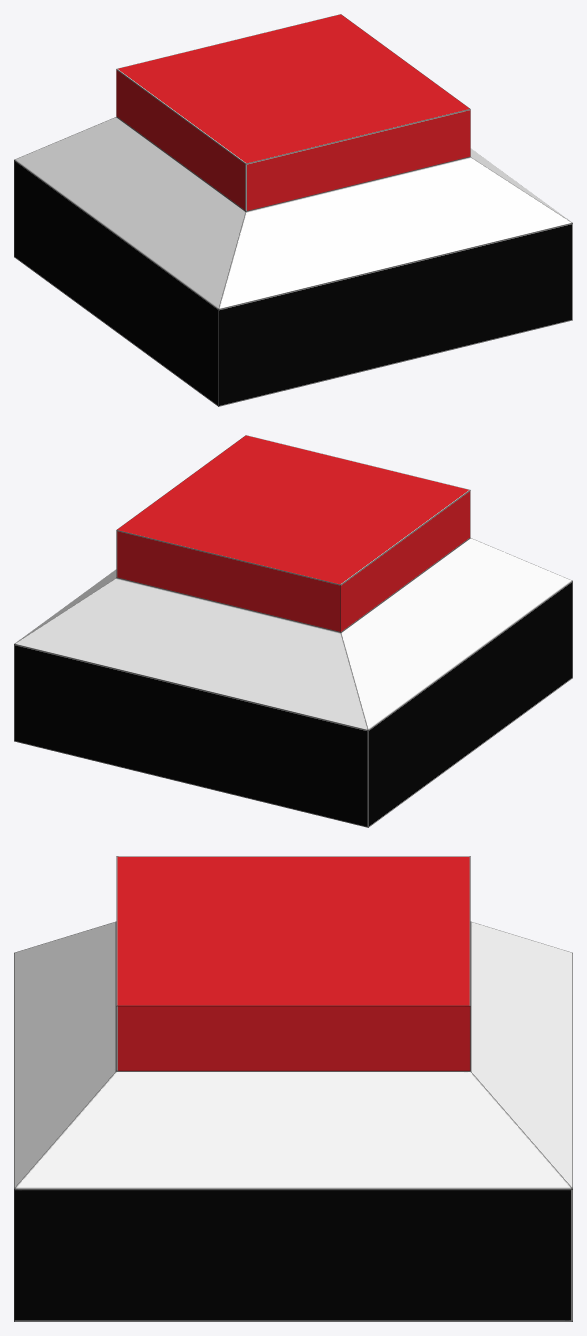
Rendered from throttleIndicator.obj.
The picture shows the model from 3 angles, top to bottom: view 1: azimuth 30°, elevation 25°; view 2: azimuth 150°, elevation 25°; view 3: azimuth 270°, elevation 25°; orthographic projection. The views are drawn at different scales.
Parts seen in each view (by area): view 1: Cube; view 2: Cube; view 3: Cube.
Part boxes in pixels (x1=…): Cube: x1=14, y1=14, x2=572, y2=406; Cube: x1=14, y1=435, x2=572, y2=827; Cube: x1=14, y1=856, x2=572, y2=1321.
Bounding box in the file's own units: 2 × 1.08 × 2.
